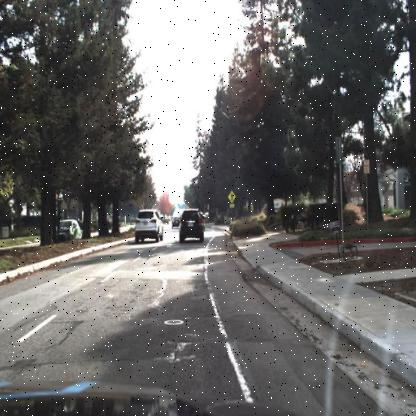car: (133, 207, 164, 245), (53, 217, 85, 244), (180, 207, 204, 242), (52, 216, 82, 242), (171, 214, 182, 229)
